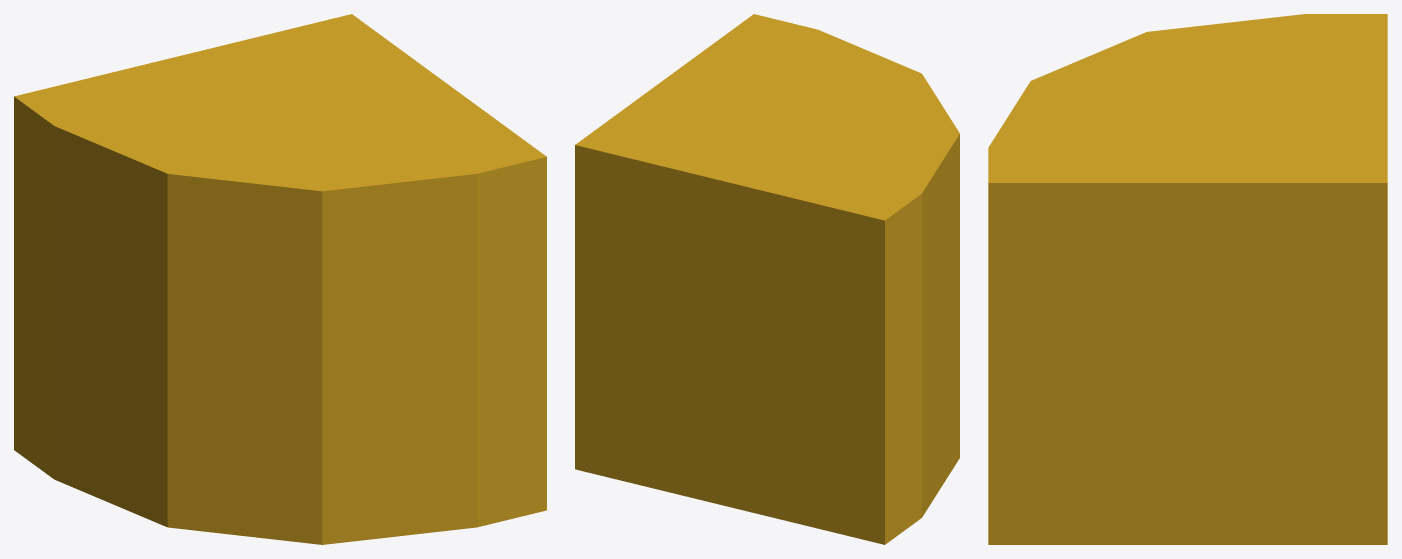
File: BlockofCheese.fbx
The picture shows the model from 3 angles, left to right: view 1: azimuth 30°, elevation 25°; view 2: azimuth 150°, elevation 25°; view 3: azimuth 270°, elevation 25°; orthographic projection. The views are drawn at different scales.
Visible parts, largest first — view 1: BlockofCheese; view 2: BlockofCheese; view 3: BlockofCheese.
Boxes of the visible parts, x1,y1,x2,y2 form: BlockofCheese: (14,14,546,544); BlockofCheese: (575,14,959,544); BlockofCheese: (988,14,1387,544).
Bounding box in the file's own units: 8 × 8 × 8.
